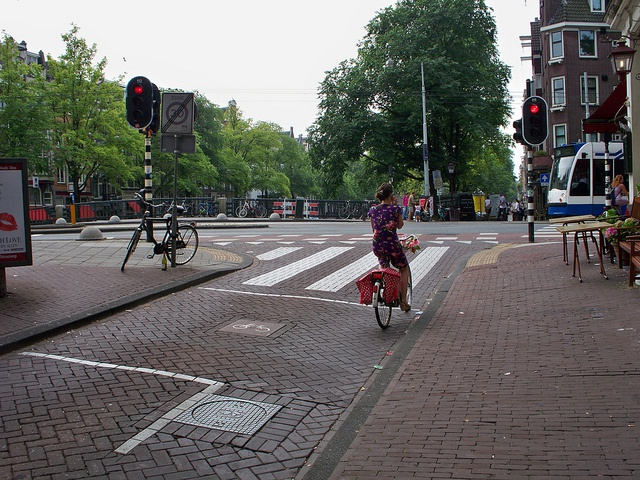non-vehicle: (120, 189, 199, 271), (371, 234, 415, 329), (235, 200, 266, 218), (338, 206, 363, 219)
